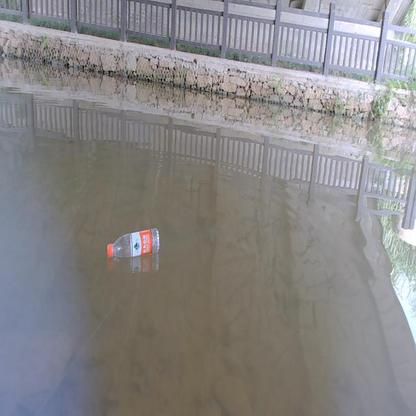plastic bottle: (104, 228, 161, 258)
